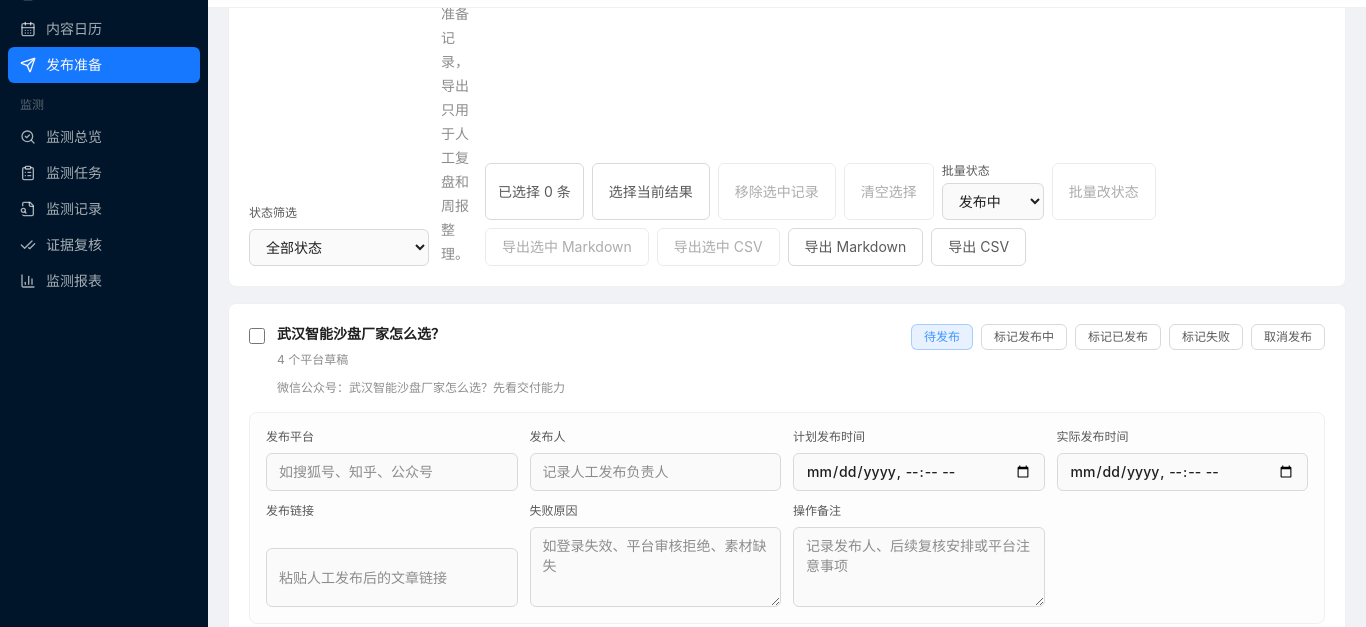
Test: P6 发布准备队列页面 › 支持批量更新选中的发布准备记录状态
This screenshot has width=1366, height=627.
(page scrolled)
Expected: the text "武汉智能沙盘厂家怎么选？" is shown, left=277, top=325, right=445, bottom=342
Click the checkbox named "选择发布记录 武汉智能沙盘厂家怎么选？" at (257, 336), box left=249, top=328, right=265, bottom=344
(page scrolled)
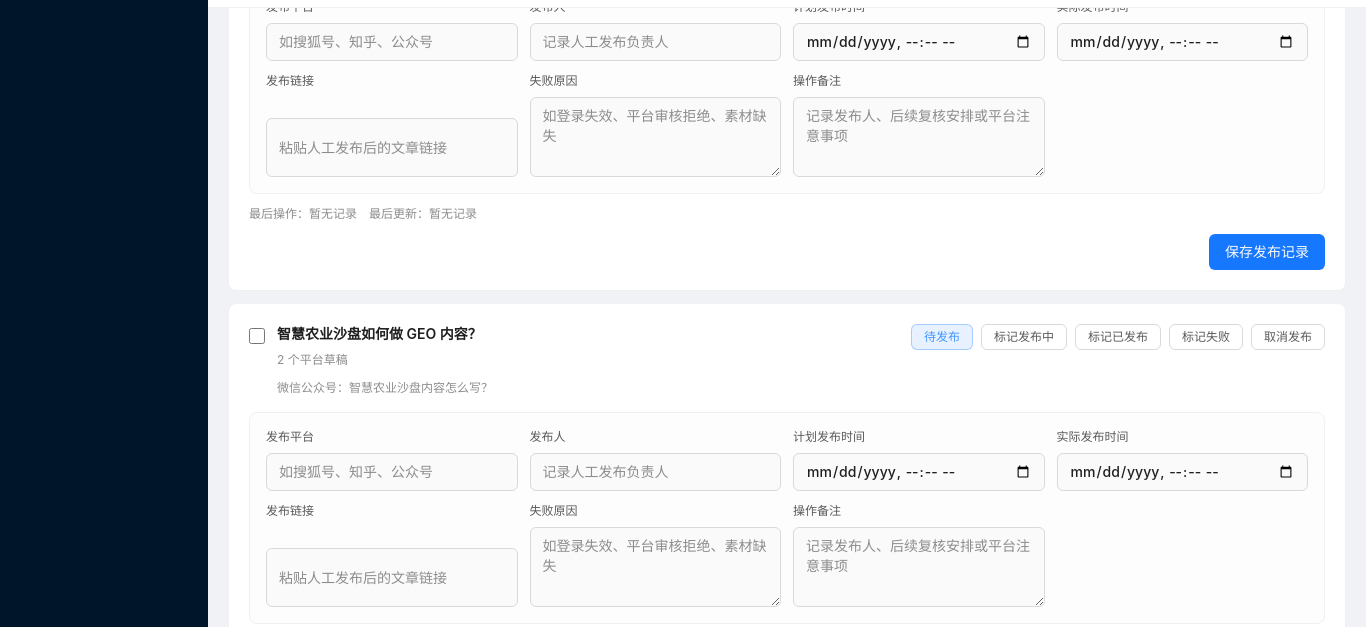
Click the checkbox named "选择发布记录 智慧农业沙盘如何做 GEO 内容？" at (257, 336), box left=249, top=328, right=265, bottom=344
(page scrolled)
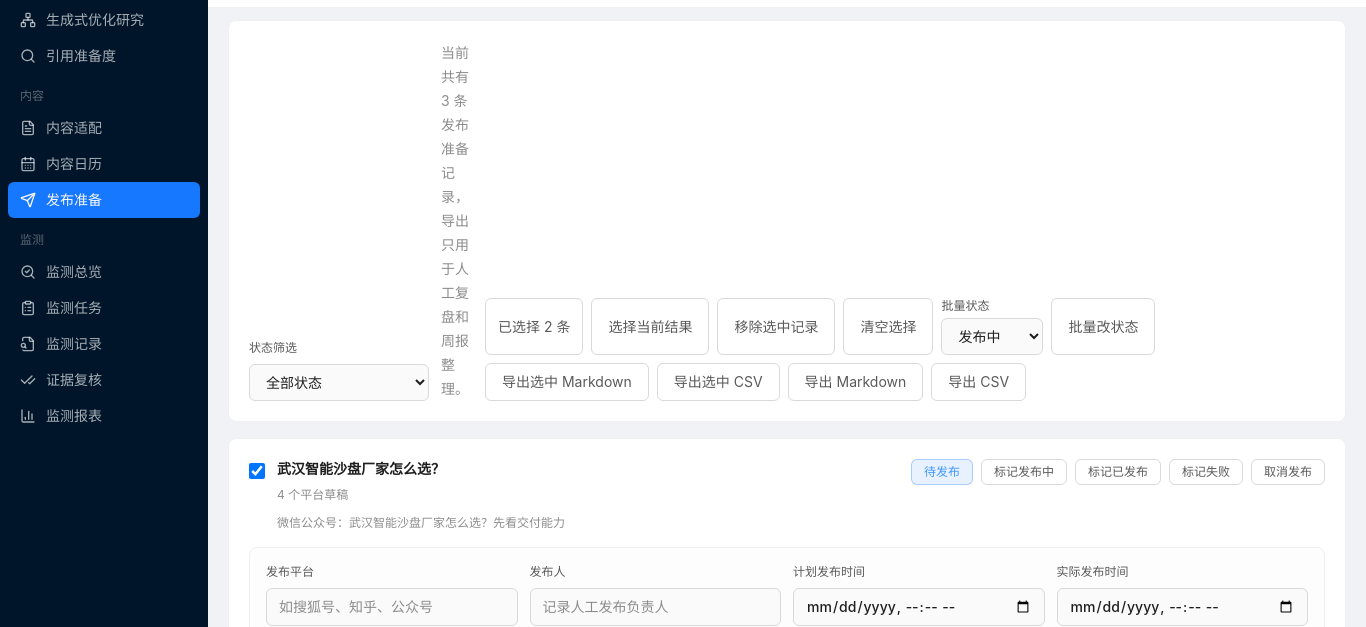
Select "发布中" in the dropdown labelled "批量状态" at (992, 336), box left=941, top=318, right=1043, bottom=355
Click the button "批量改状态" at (1103, 326), box left=1051, top=298, right=1155, bottom=355
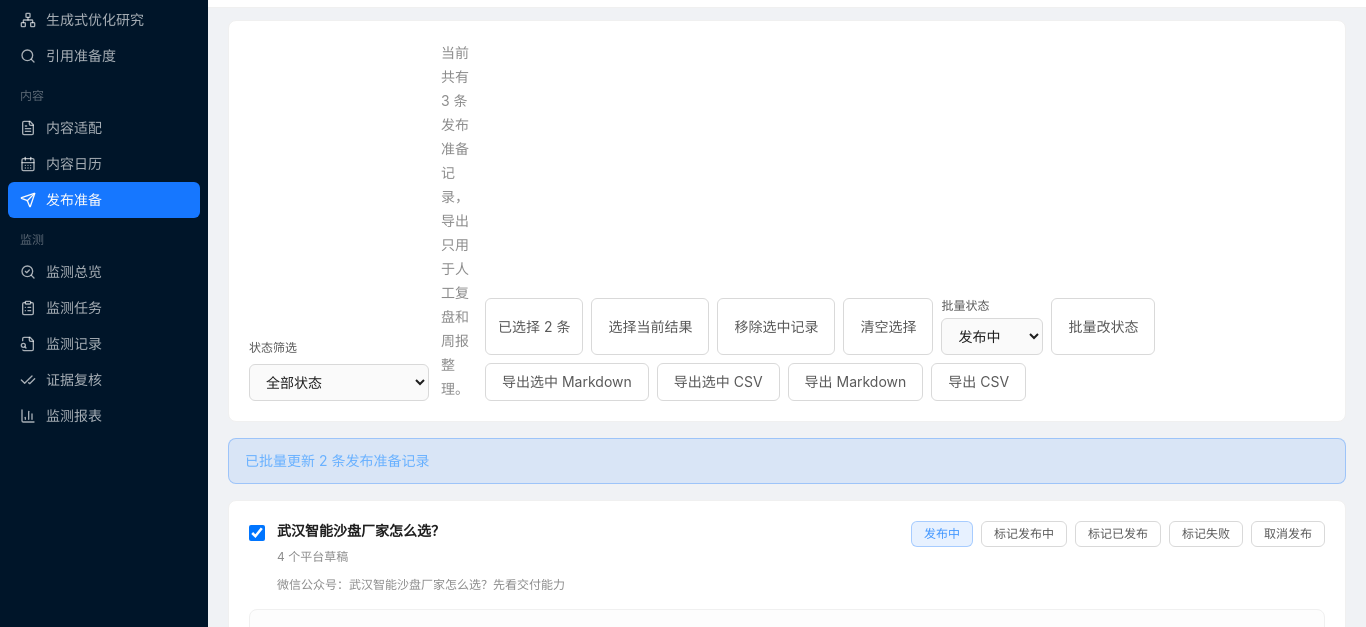
Expected: the message reads "已批量更新 2 条发布准备记录", left=245, top=452, right=429, bottom=469
